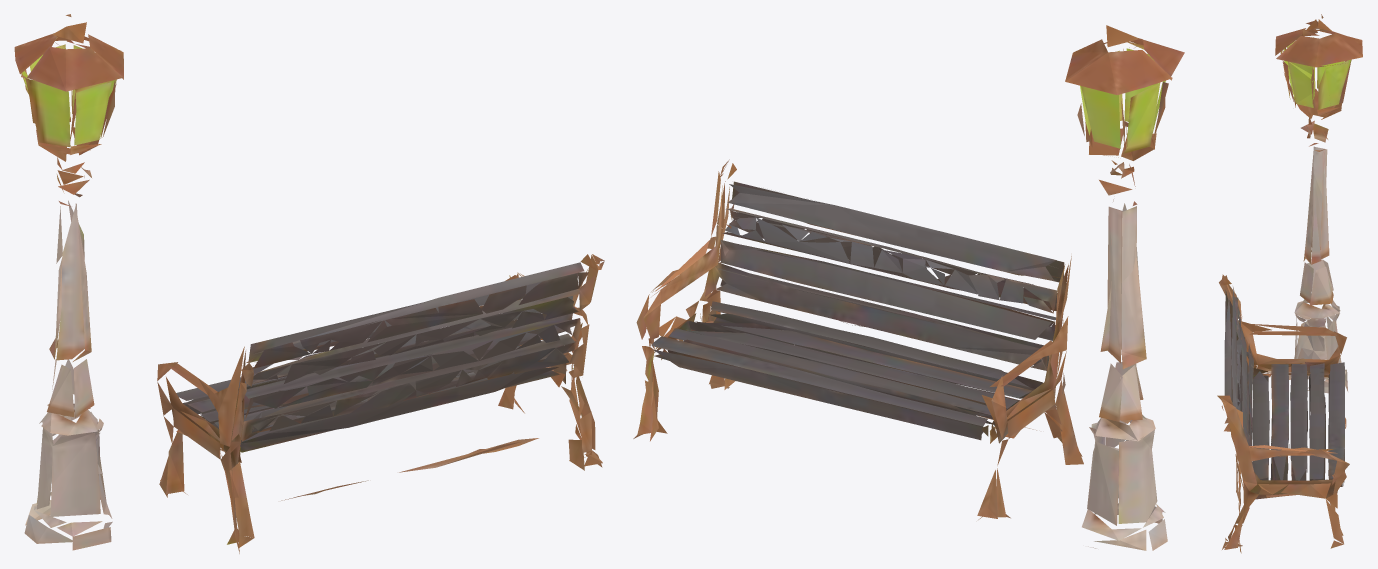
File: banc-lampadaire-bas.glb
The picture shows the model from 3 angles, left to right: view 1: azimuth 30°, elevation 25°; view 2: azimuth 150°, elevation 25°; view 3: azimuth 270°, elevation 25°; orthographic projection. The views are drawn at different scales.
Parts seen in each view (by area): view 1: banc-lampadaire-bas; view 2: banc-lampadaire-bas; view 3: banc-lampadaire-bas.
Part boxes in pixels (<box>): banc-lampadaire-bas: <box>14,14,604,553</box>; banc-lampadaire-bas: <box>633,25,1184,550</box>; banc-lampadaire-bas: <box>1217,14,1362,553</box>.
Size of the model in its own units: 3.63 by 3.5 by 1.26.
1 material, 1 textured.
